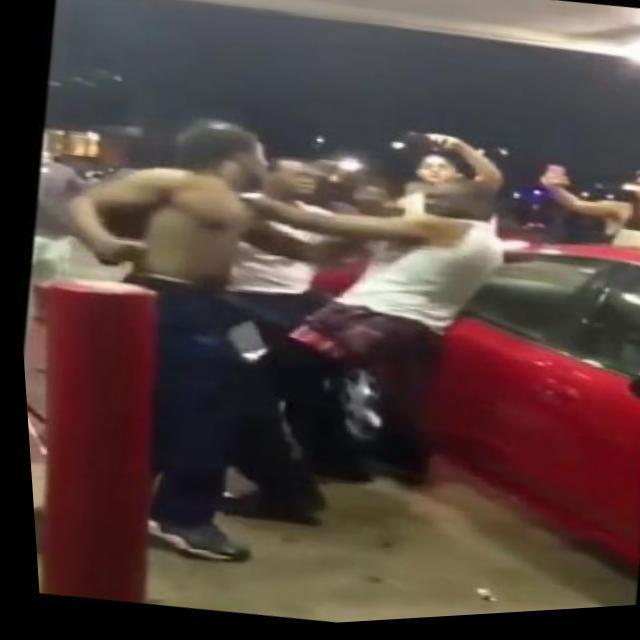fight: (9, 97, 538, 620)
